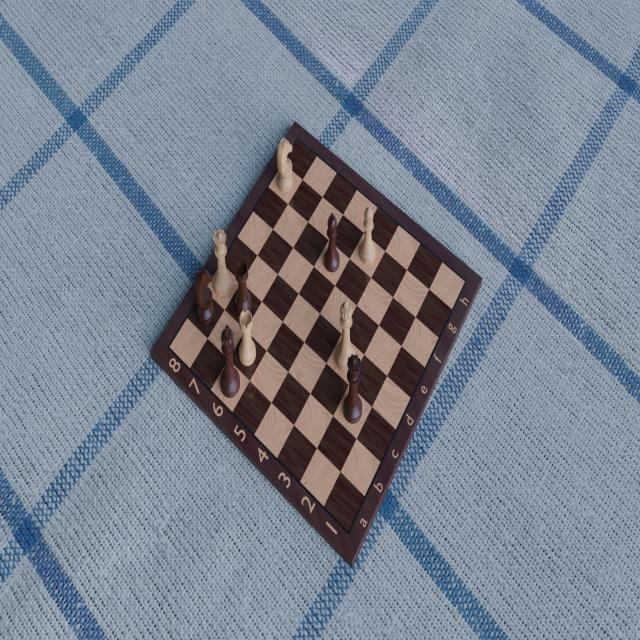black-bishop: (321, 209, 343, 275)
black-king: (219, 324, 242, 400)
black-knight: (193, 266, 215, 326)
black-queen: (341, 351, 364, 429)
black-rook: (232, 260, 253, 314)
white-bishop: (358, 204, 378, 269)
white-king: (332, 300, 355, 376)
white-knight: (273, 134, 294, 195)
white-queen: (211, 228, 233, 300)
white-rook: (236, 307, 259, 369)
